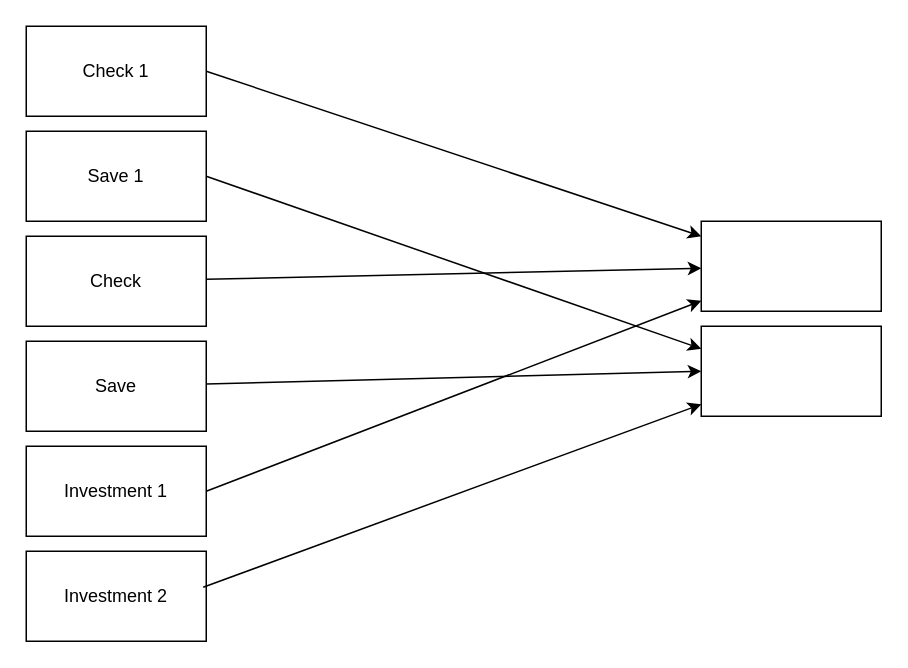
Image size: 908x668. Some labels were removed from this diagram. The shapes that lost their labels are listed below. From the top down, each one's box as (x1, y1, x2, y2) in pixels, then its label:
(700, 220, 881, 311): Deposit
(700, 325, 881, 416): Withdrawal
